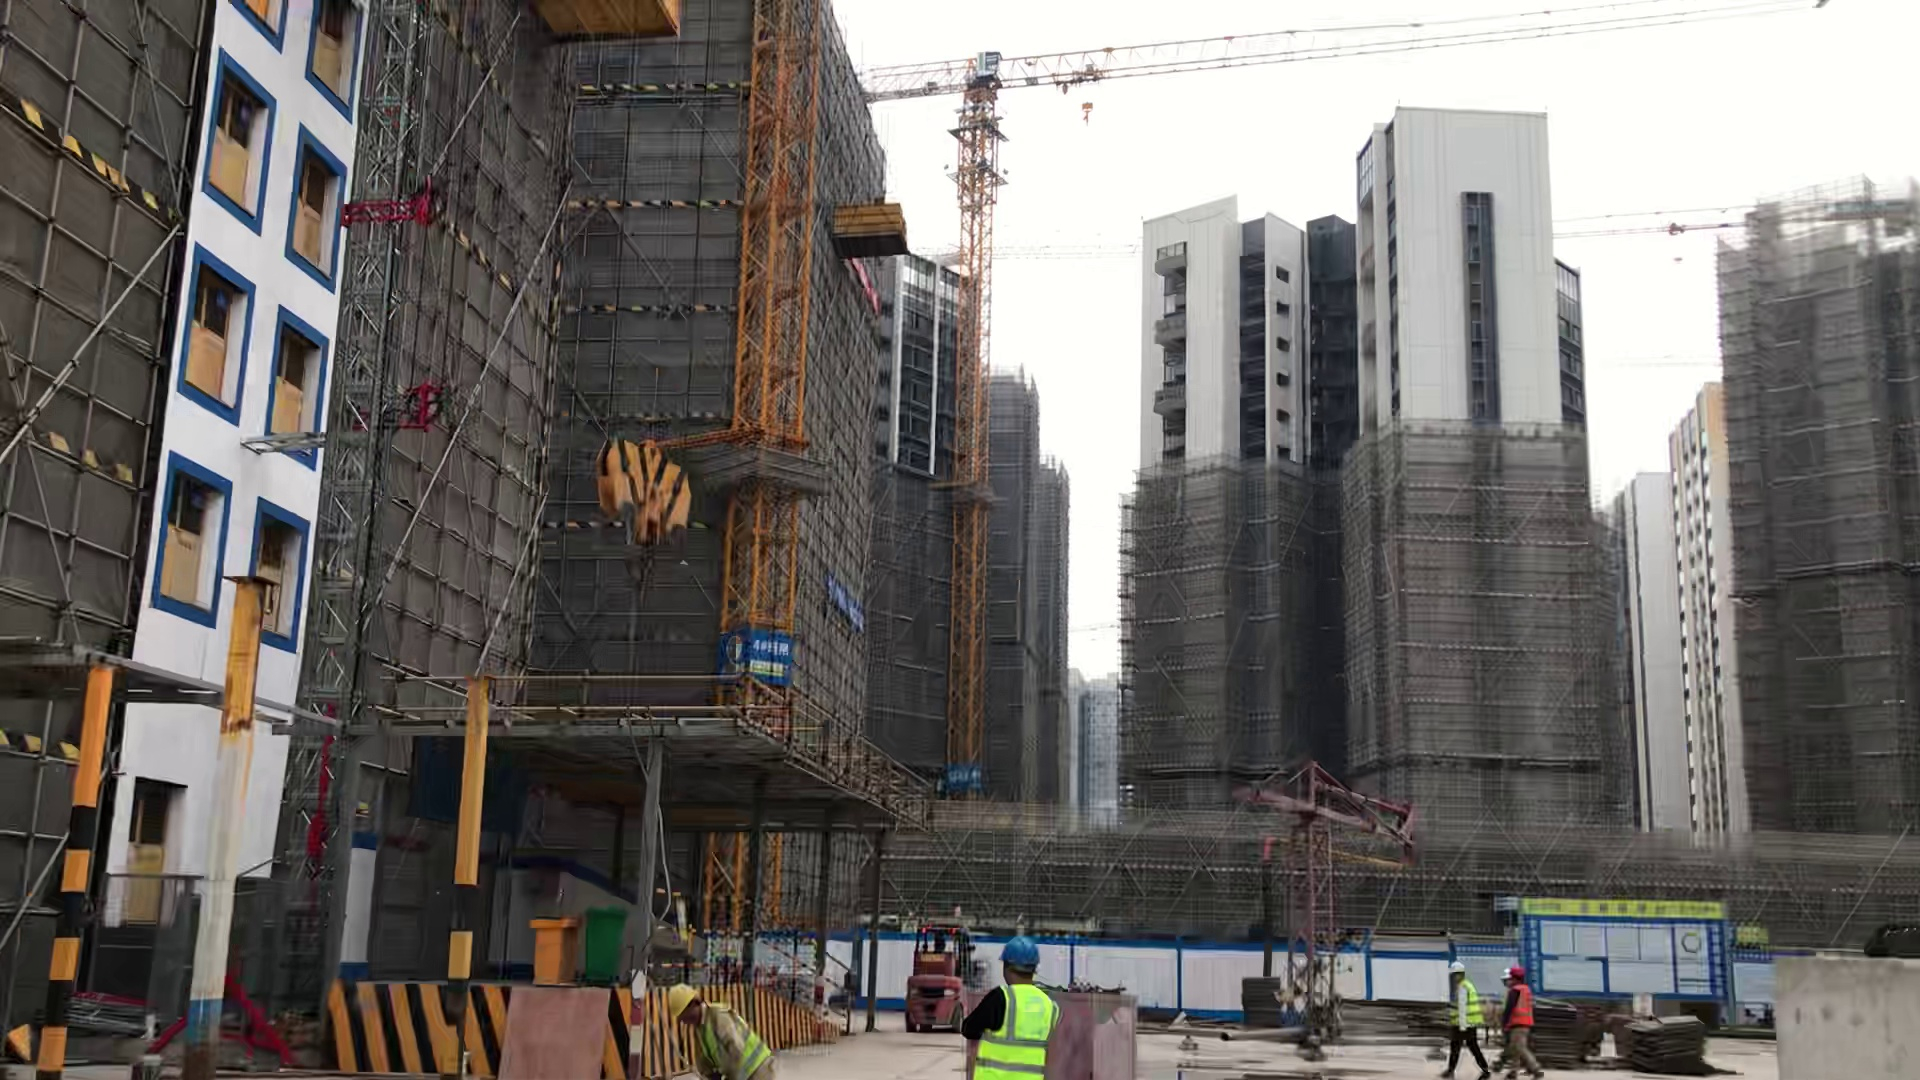board: (1595, 996, 1722, 1073), (1507, 997, 1605, 1074)
fence: (644, 874, 863, 1042)
helmet: (663, 979, 713, 1029), (1000, 933, 1046, 976), (1501, 953, 1533, 989), (1440, 954, 1473, 984), (1493, 961, 1511, 985)
hook: (573, 418, 721, 614)
person: (950, 922, 1066, 1080), (646, 968, 787, 1080), (1429, 951, 1486, 1080), (1497, 953, 1546, 1080)
slogan: (1502, 884, 1733, 1022), (710, 615, 792, 711), (825, 245, 900, 331), (808, 573, 879, 647), (927, 755, 992, 804)
vest: (968, 974, 1060, 1080), (689, 997, 782, 1080), (1445, 985, 1493, 1038), (1498, 978, 1543, 1034)
